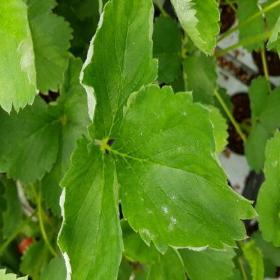Powdery Mildew Leaf: (109, 83, 259, 255), (79, 0, 159, 152), (56, 133, 125, 279), (171, 0, 220, 58)
